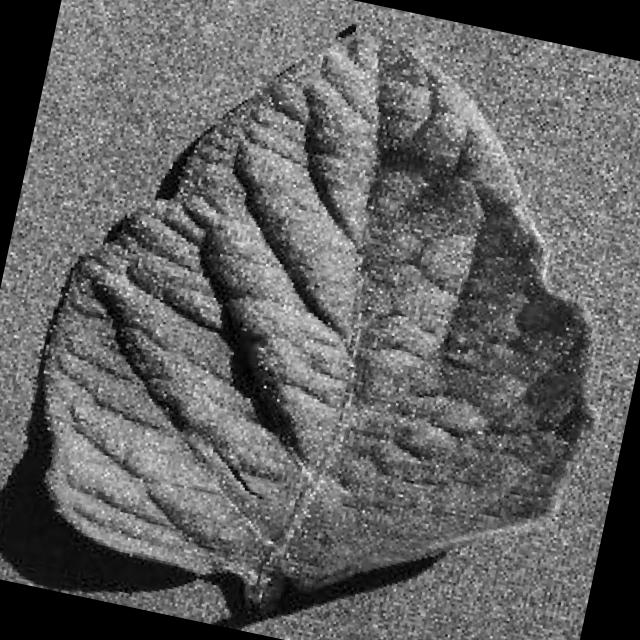healthy: (41, 22, 596, 619)
